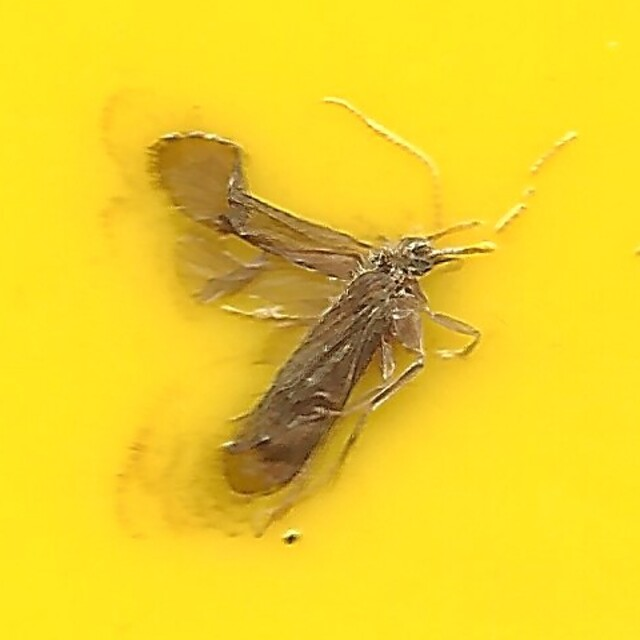Trichoptera: (133, 129, 507, 511)
